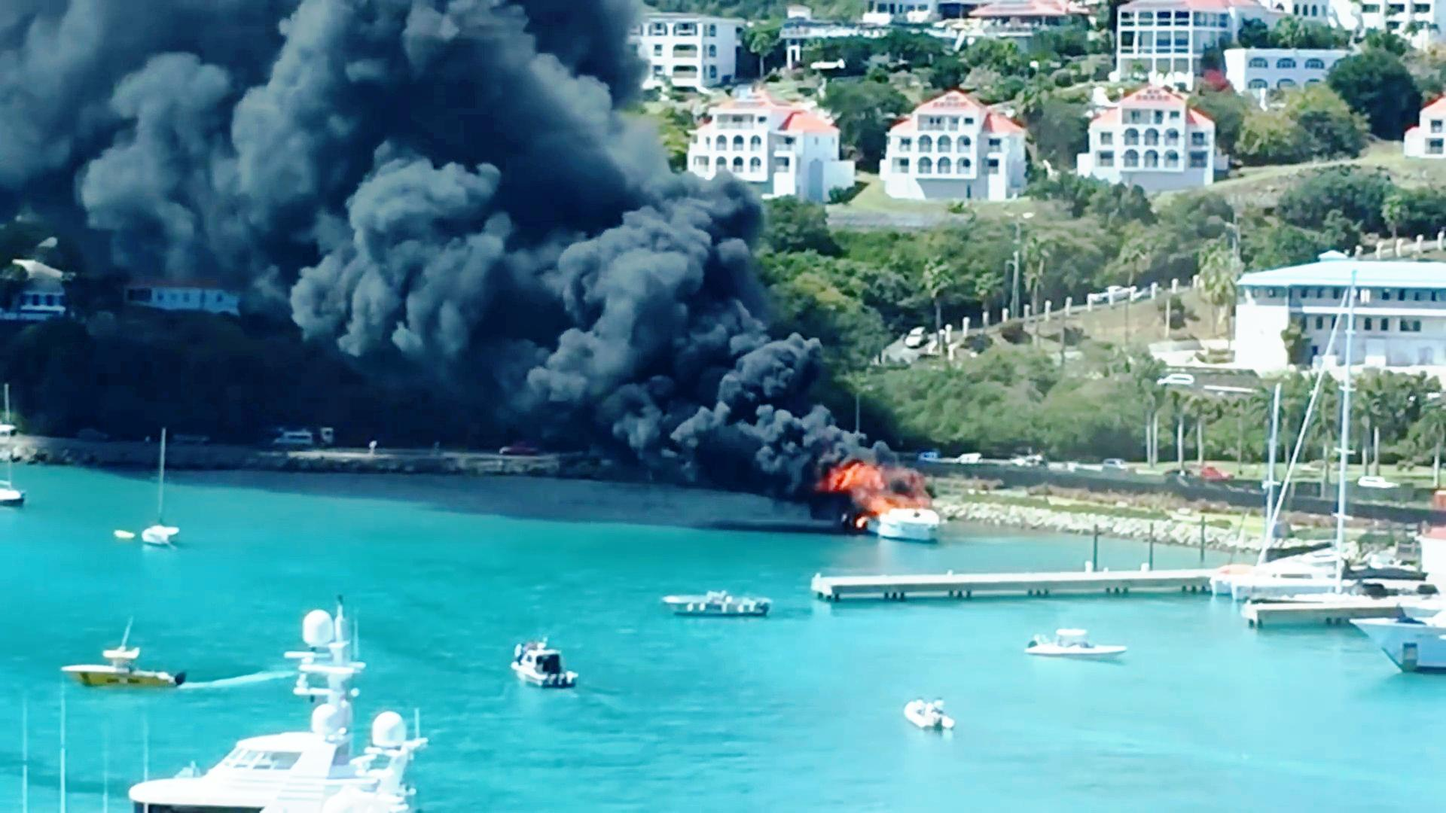smoke: (0, 0, 593, 228), (277, 0, 501, 388), (549, 179, 733, 431), (716, 333, 827, 484)
